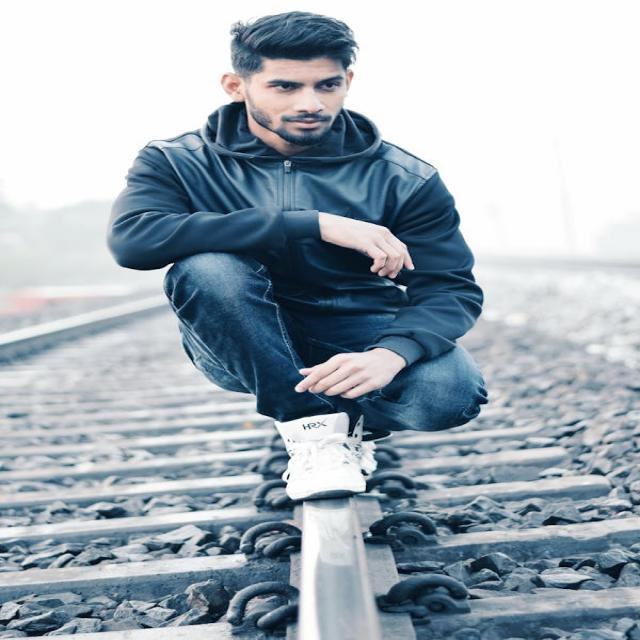Real human 2: (96, 0, 521, 528)
